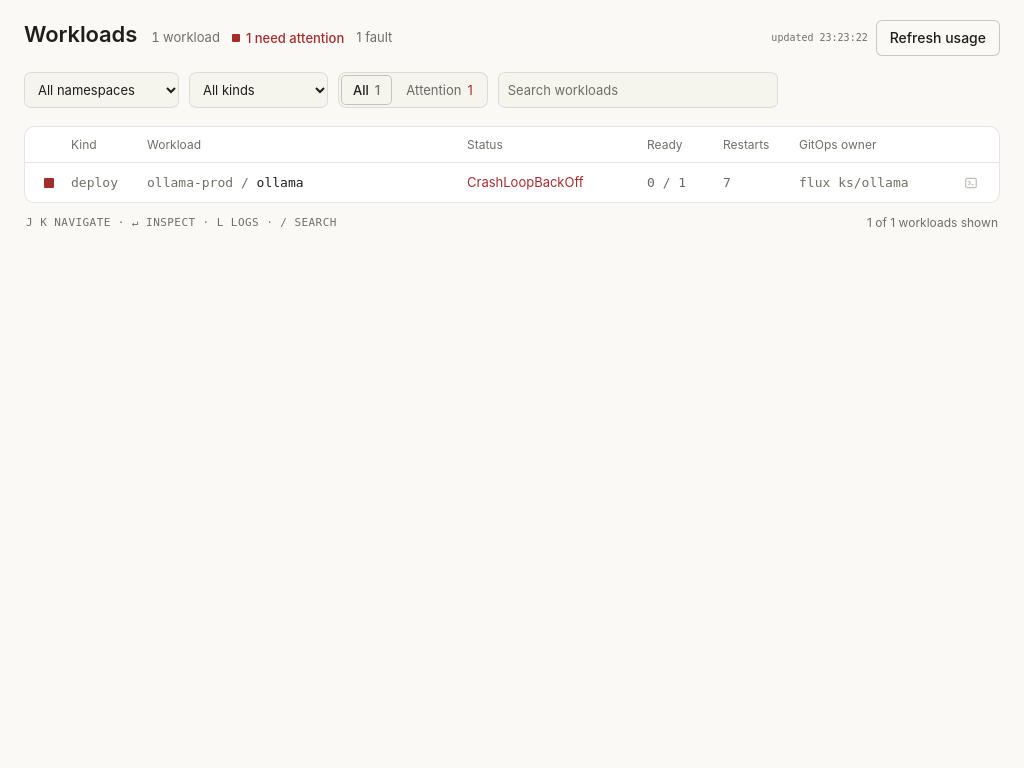
WorkloadsView › ✕ closes the dock
Click the button named "aggregate logs for ollama-prod/ollama".
click(971, 182)  # box x1=961 y1=172 x2=981 y2=192
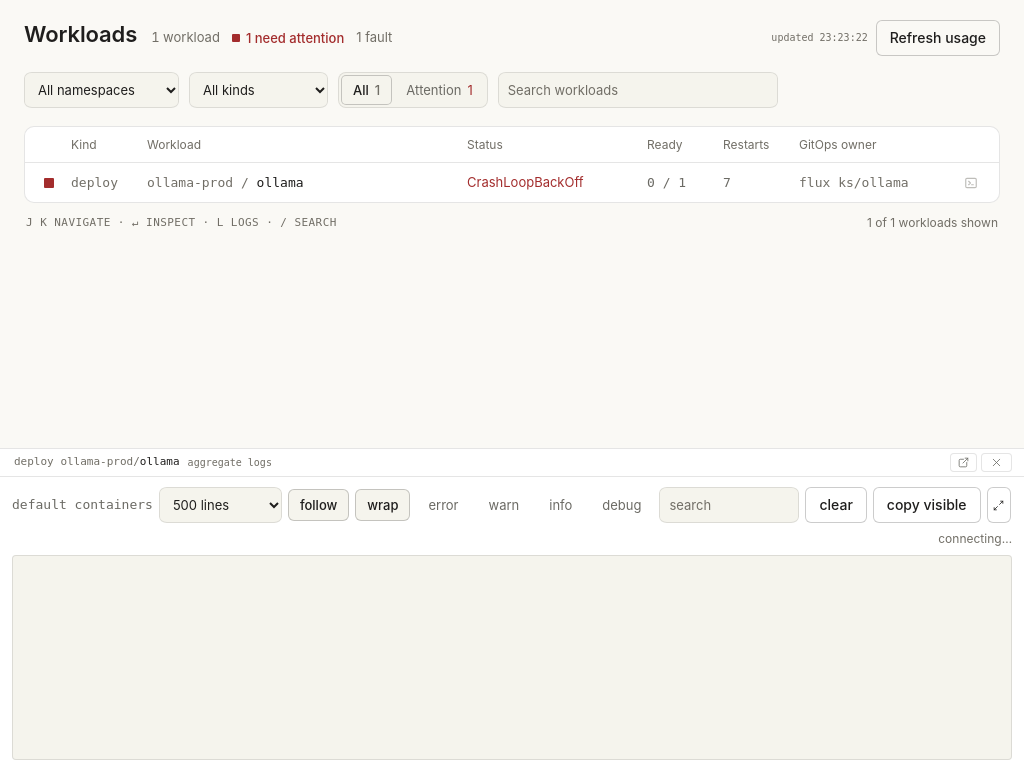
Expected: the element with test id "workload-logs-dock" is shown, x1=0 y1=448 x2=1023 y2=767
Click the button named "close logs dock".
click(996, 462)  # box x1=981 y1=453 x2=1012 y2=472
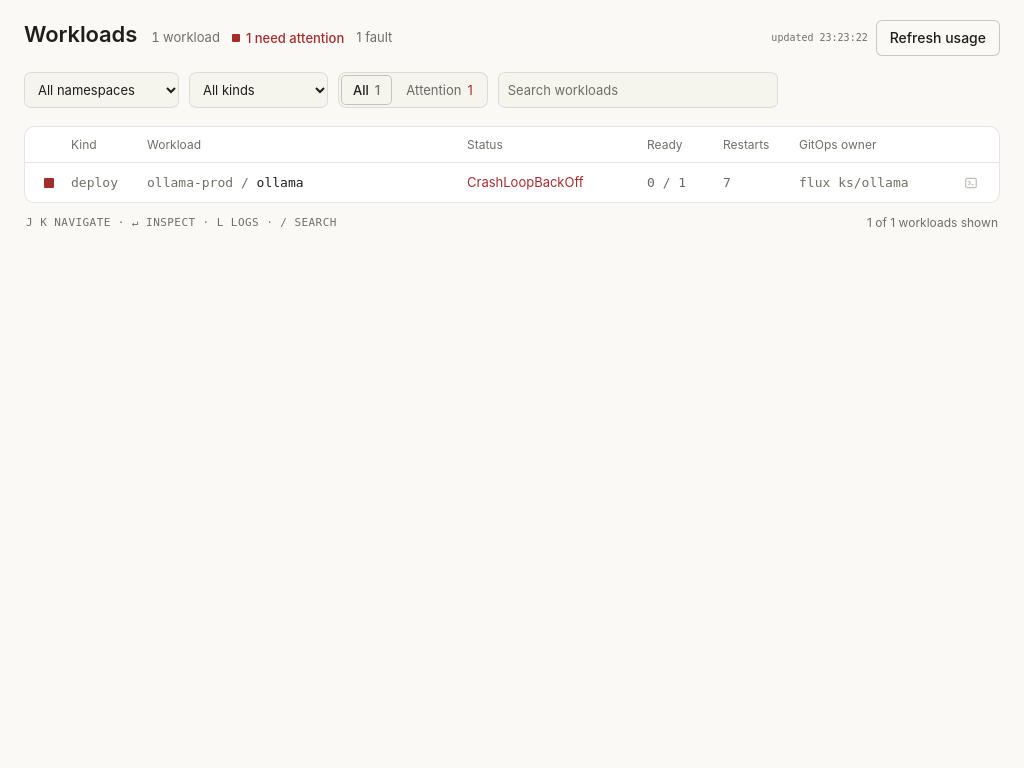
Expected: the element with test id "workload-logs-dock" is gone
